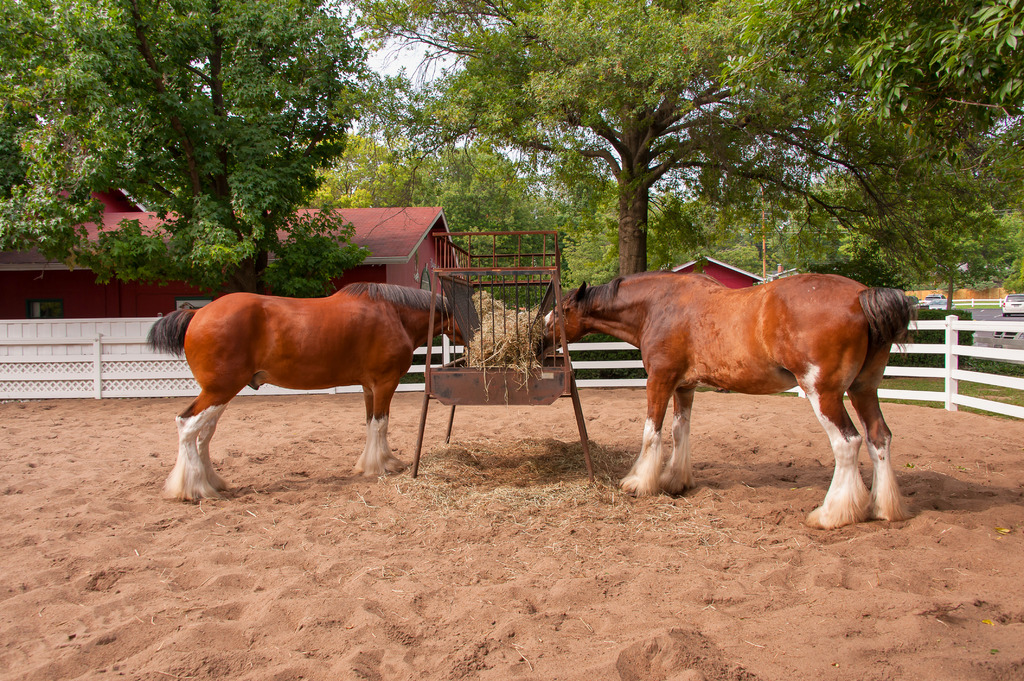horse: (529, 270, 912, 530)
